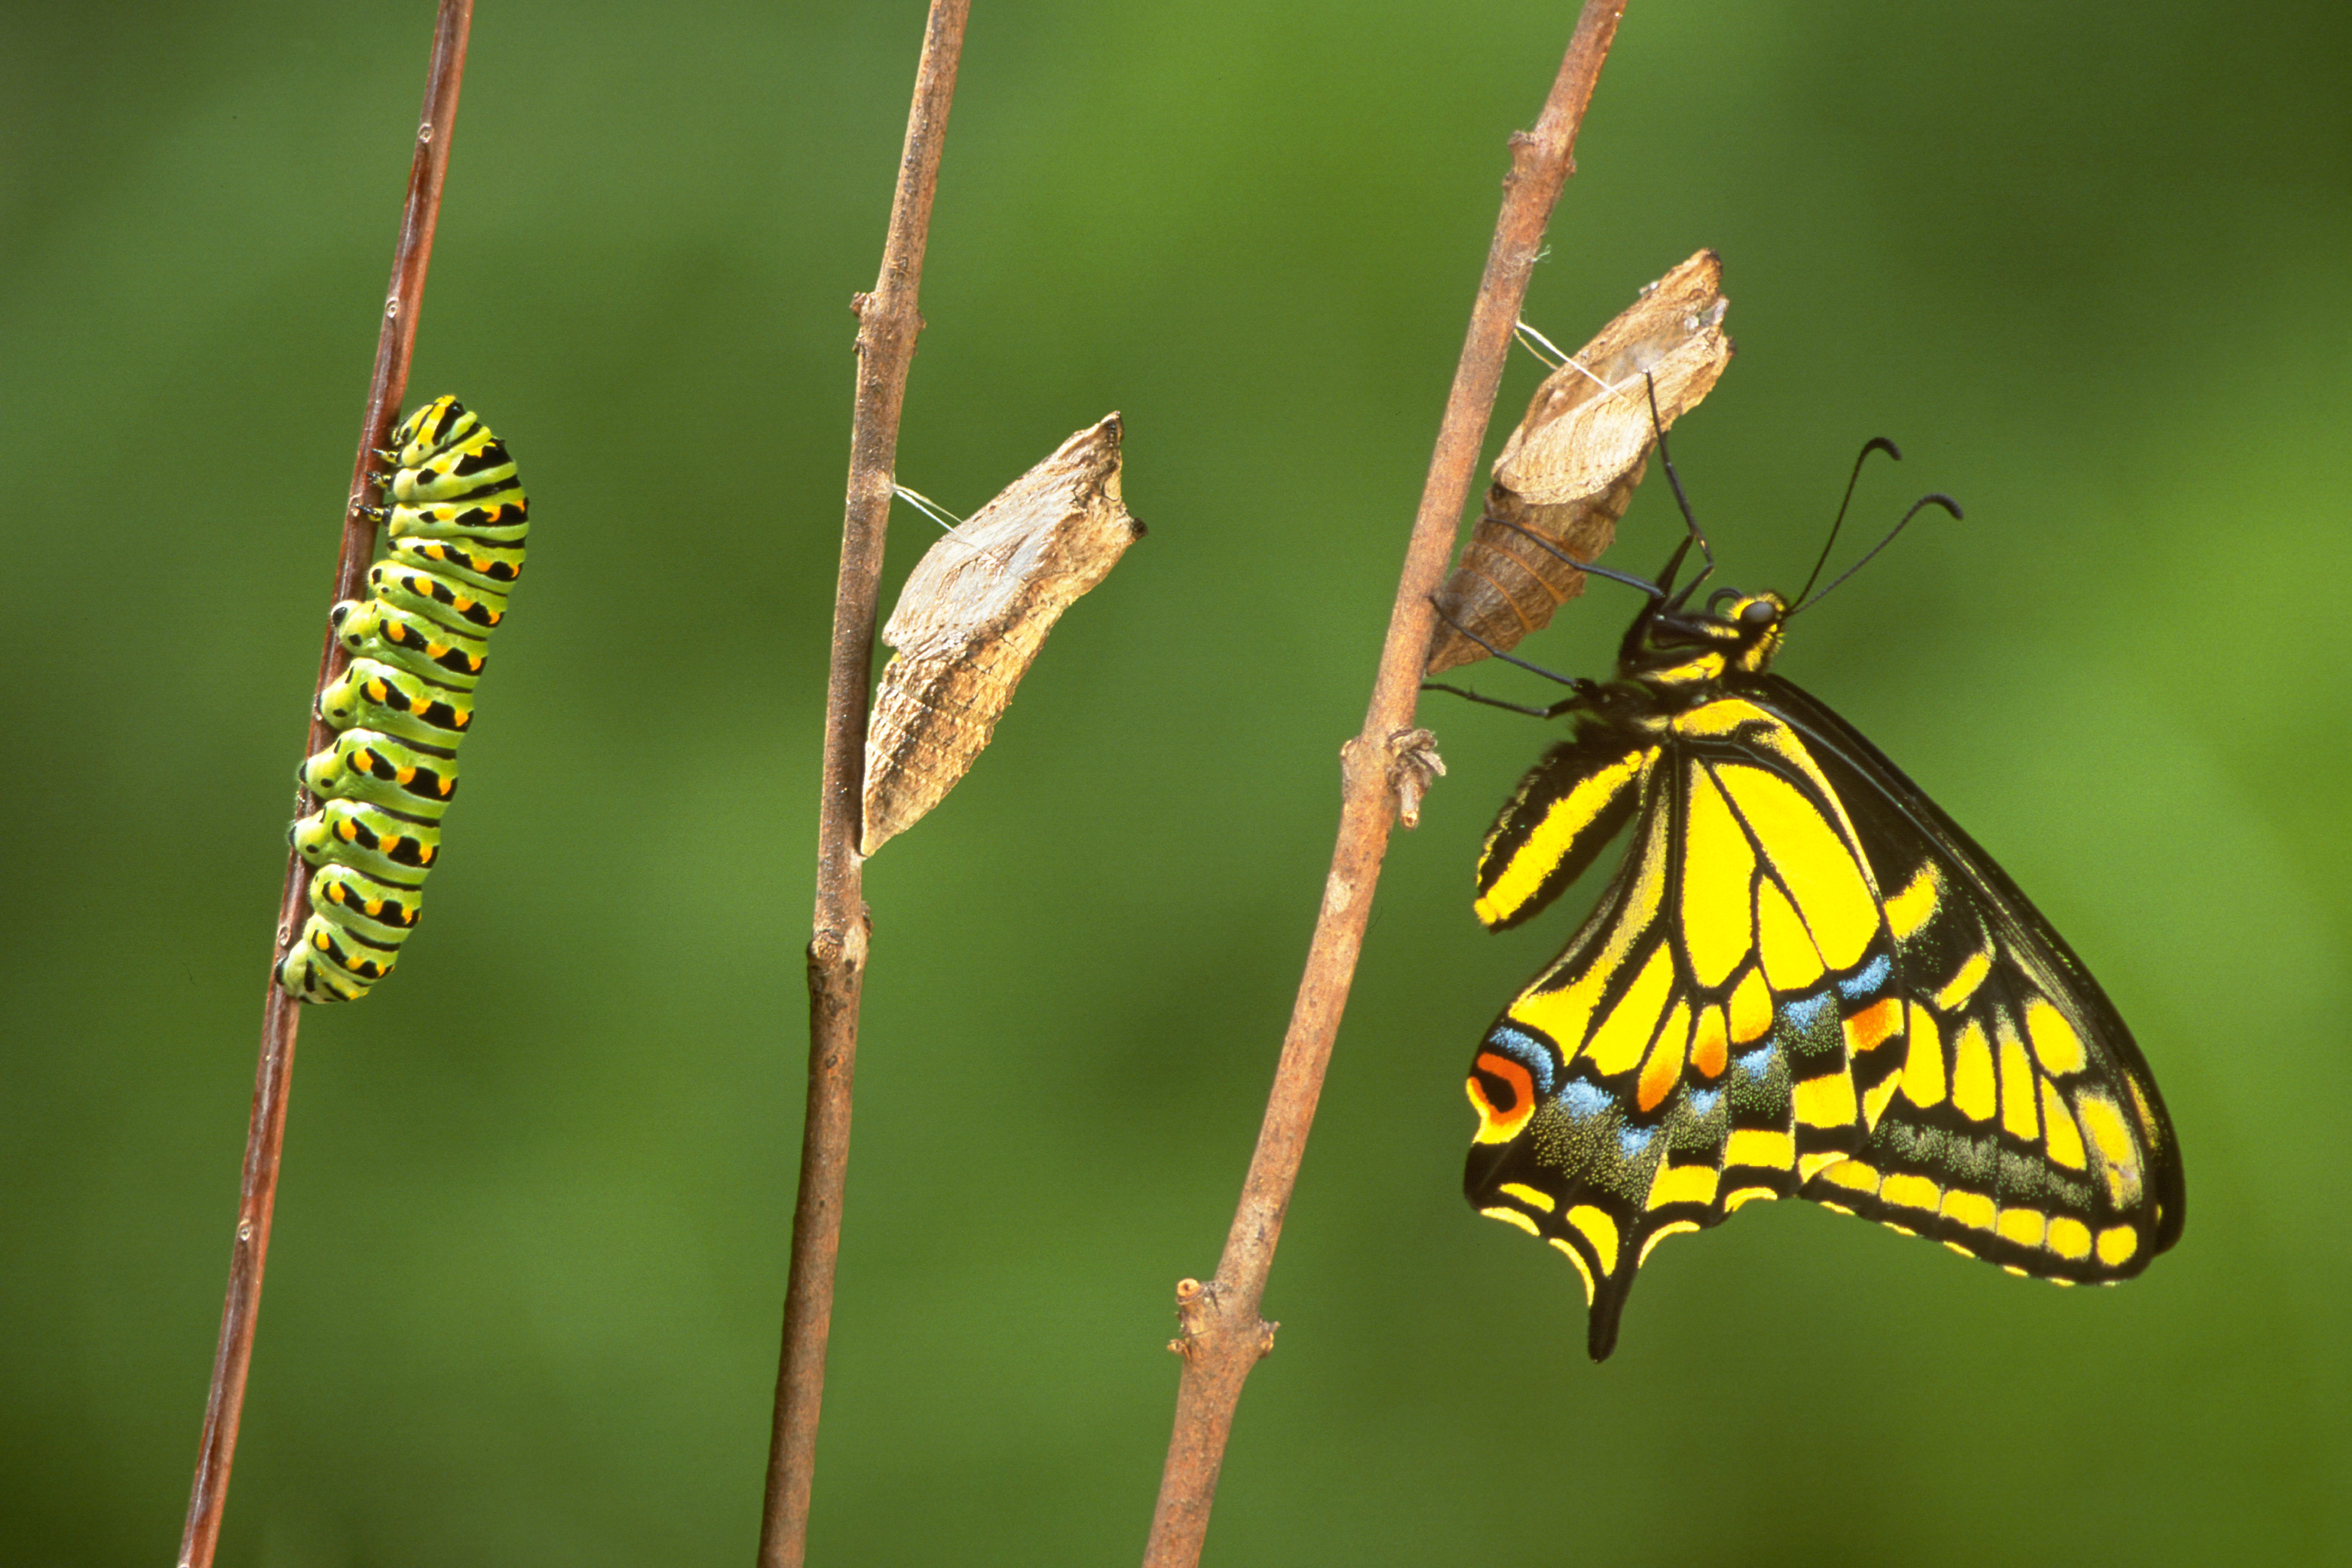Butterfly: (1419, 374, 2194, 1370)
Caterpillar: (271, 383, 532, 1029)
